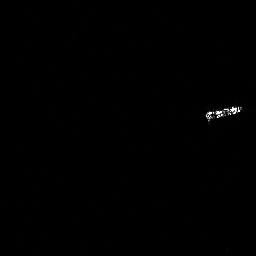ship: (201, 103, 246, 123)
